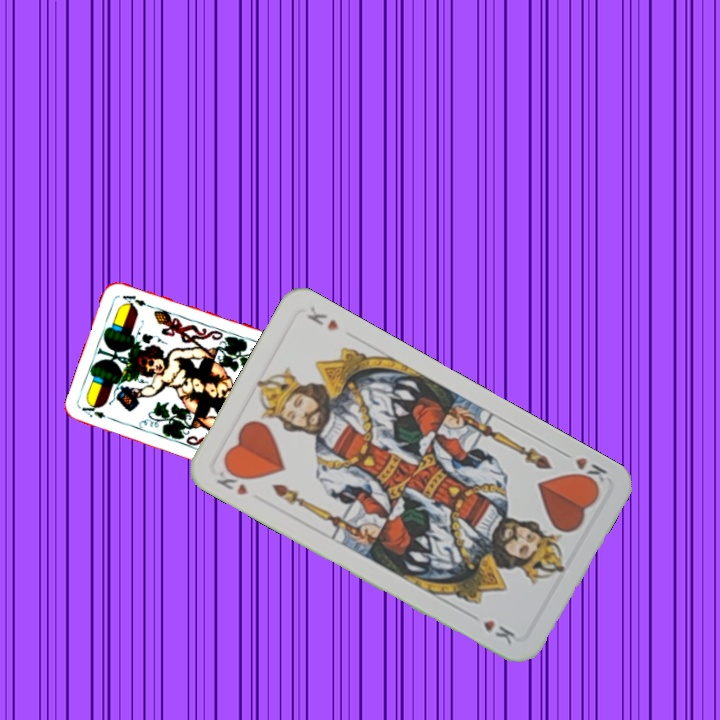EA: (78, 401, 117, 423)
HK: (556, 446, 611, 491), (210, 463, 253, 498)
